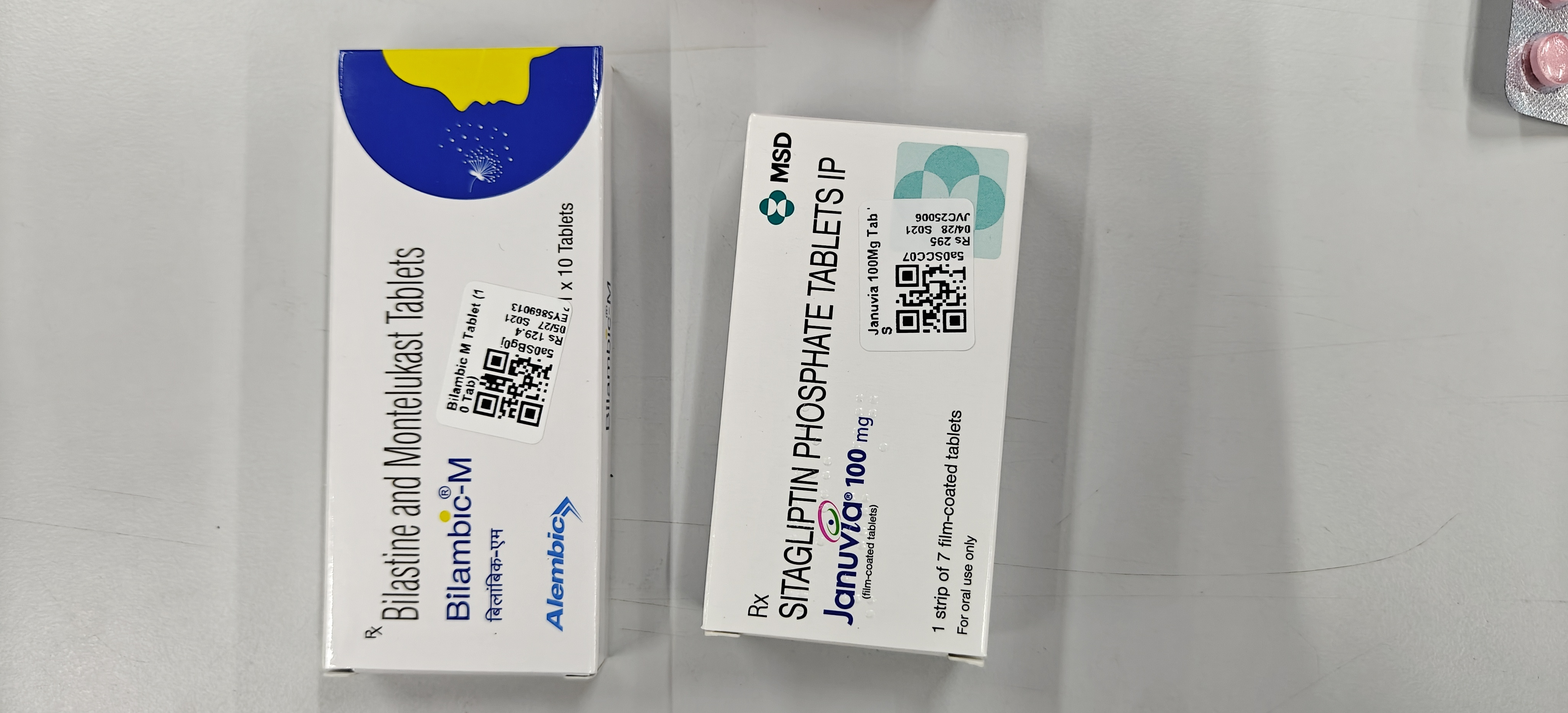qr_code: (472, 348, 553, 427), (895, 264, 966, 333)
